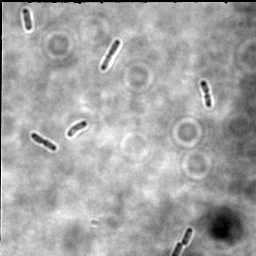Dividing: (99, 39, 122, 72), (172, 227, 194, 255), (30, 132, 59, 152), (199, 80, 213, 109)
Rod: (66, 120, 88, 139), (21, 8, 33, 33)
